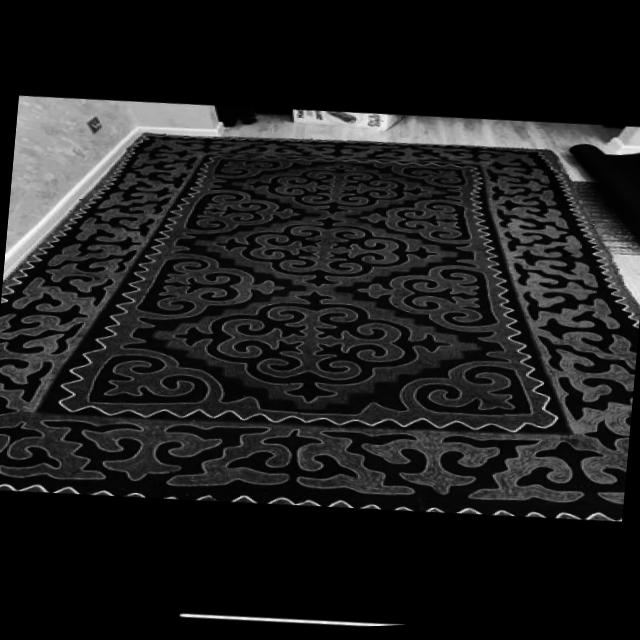Unity: (161, 289, 456, 408), (204, 215, 442, 288), (242, 163, 432, 215)
